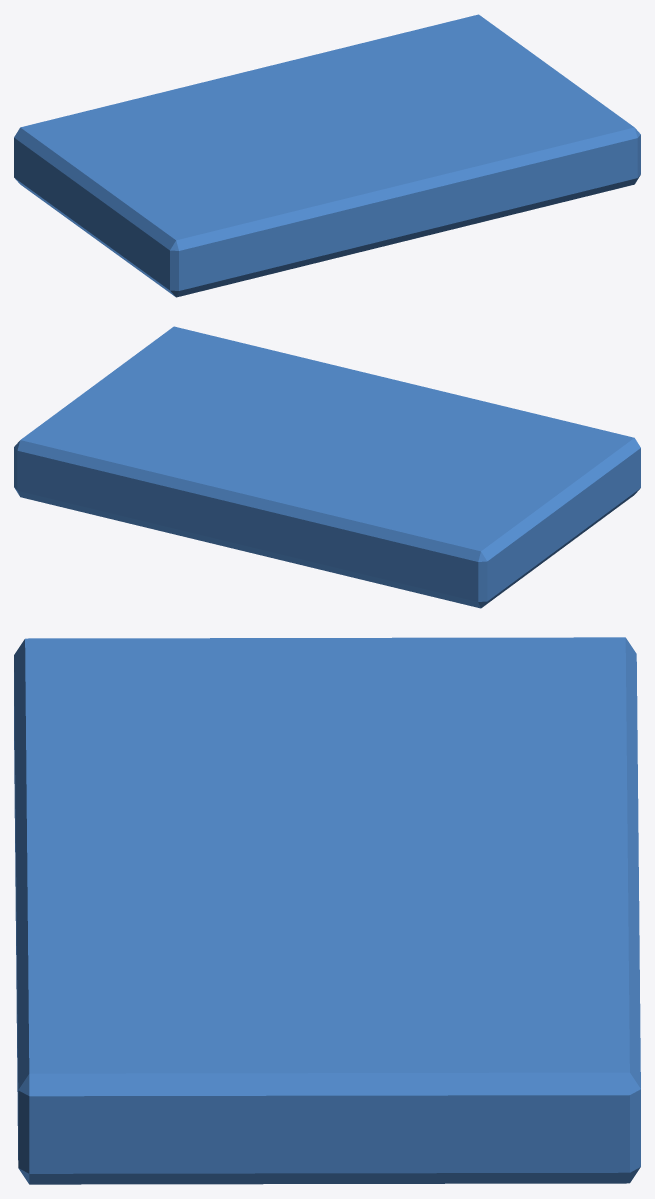
Rendered from Childrens_Room_Mattress.fbx.
The picture shows the model from 3 angles, top to bottom: view 1: azimuth 30°, elevation 25°; view 2: azimuth 150°, elevation 25°; view 3: azimuth 270°, elevation 25°; orthographic projection. The views are drawn at different scales.
Parts seen in each view (by area): view 1: Childrens_Room_Mattress; view 2: Childrens_Room_Mattress; view 3: Childrens_Room_Mattress.
Boxes of the visible parts, <box> form: Childrens_Room_Mattress: <box>14,14,640,297</box>; Childrens_Room_Mattress: <box>14,326,640,608</box>; Childrens_Room_Mattress: <box>14,637,640,1184</box>.
Bounding box in the file's own units: 231 × 26.67 × 137.
